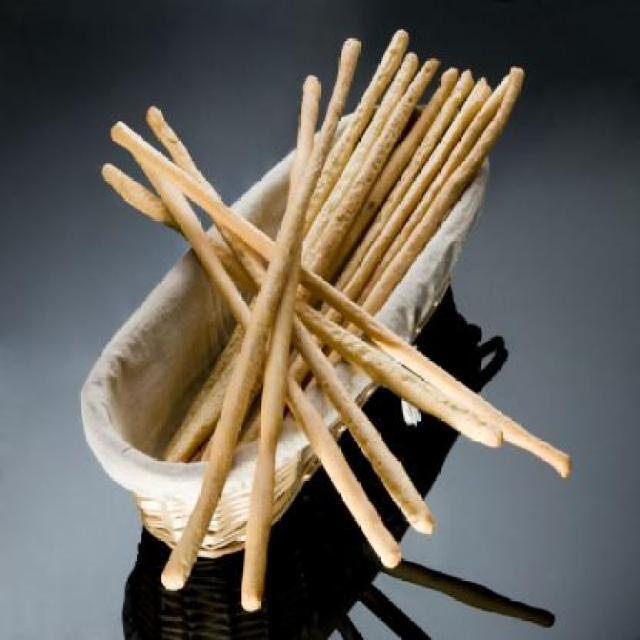Grissini: (86, 26, 580, 608)
